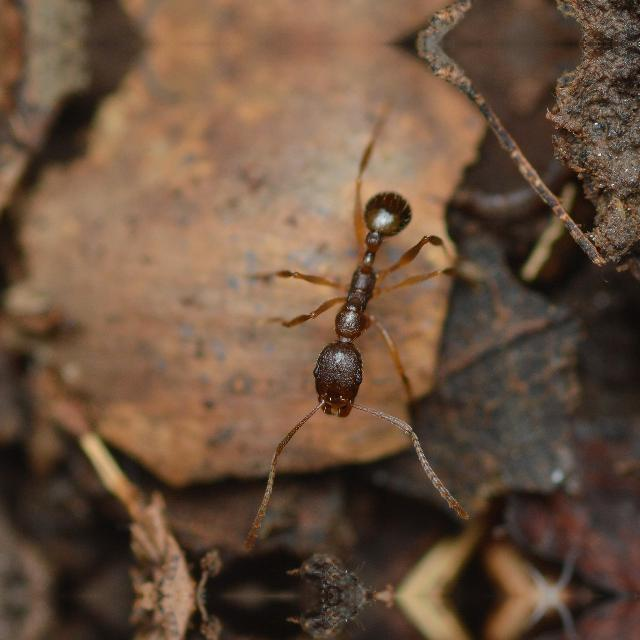Apheanogaster: (256, 154, 460, 458)
